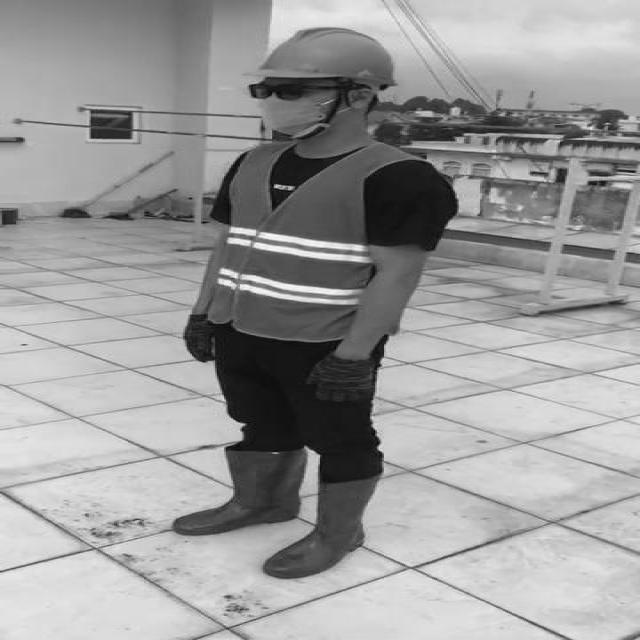boots: (256, 470, 382, 580), (173, 447, 311, 534)
face_mask: (247, 77, 345, 140)
glasses: (237, 75, 323, 105)
hand_glove: (306, 357, 370, 403), (183, 314, 208, 362)
head_helmet: (246, 21, 404, 91)
person: (156, 22, 468, 591)
vest: (210, 138, 457, 343)
